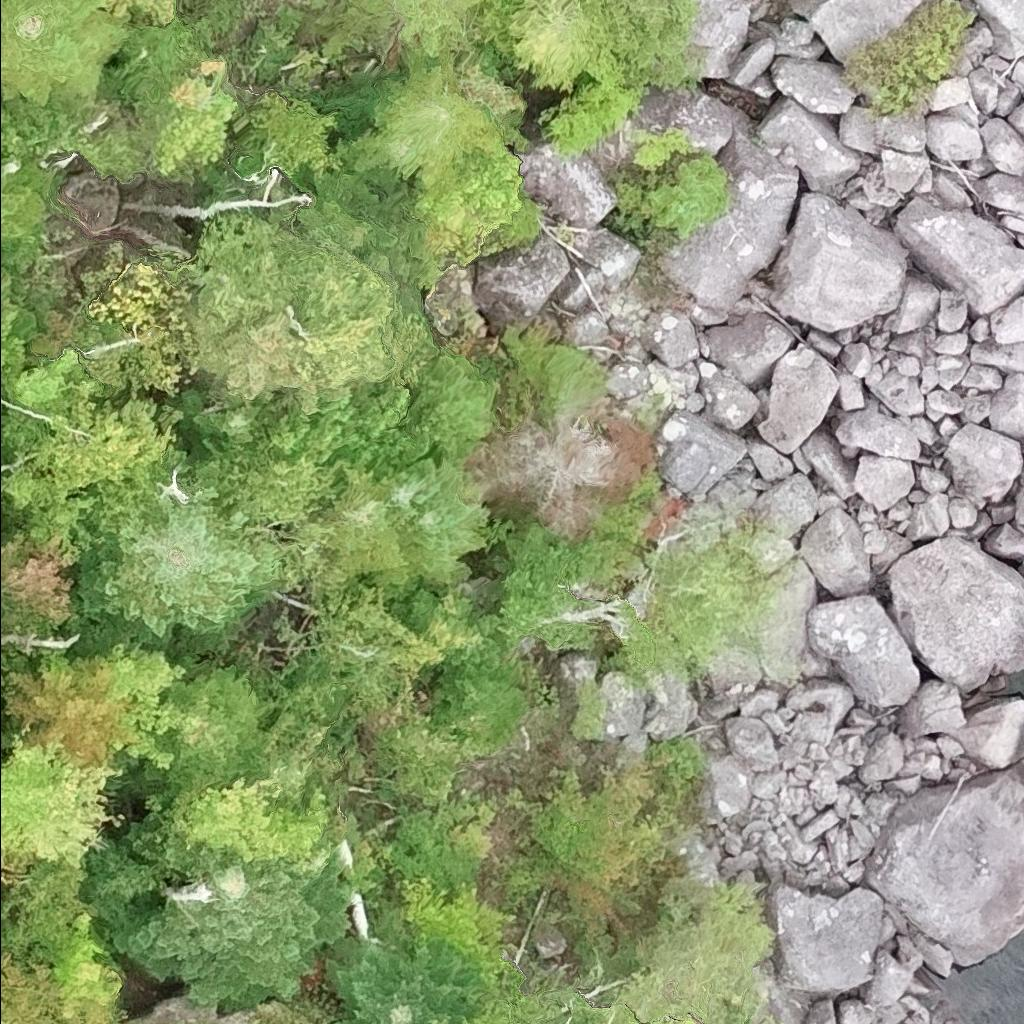crown: (108, 844, 352, 1010), (194, 212, 396, 389), (76, 485, 284, 640), (0, 387, 174, 560), (459, 401, 654, 546), (529, 756, 669, 932), (188, 453, 350, 595), (321, 896, 495, 1023), (623, 529, 766, 667), (373, 45, 501, 190), (0, 732, 122, 866), (407, 129, 524, 265), (155, 665, 274, 797), (315, 461, 426, 590), (0, 0, 127, 111), (180, 767, 328, 862), (495, 519, 602, 647), (106, 640, 198, 772), (504, 0, 618, 92), (153, 57, 240, 176), (169, 391, 287, 464), (0, 524, 75, 637), (436, 659, 531, 748), (407, 487, 485, 582), (649, 155, 729, 240), (51, 912, 122, 1005), (0, 153, 57, 266), (391, 0, 485, 58), (390, 453, 464, 513), (446, 613, 509, 665), (545, 995, 656, 1023), (0, 260, 39, 338), (461, 996, 524, 1023), (657, 1015, 701, 1023), (438, 1018, 449, 1023)
